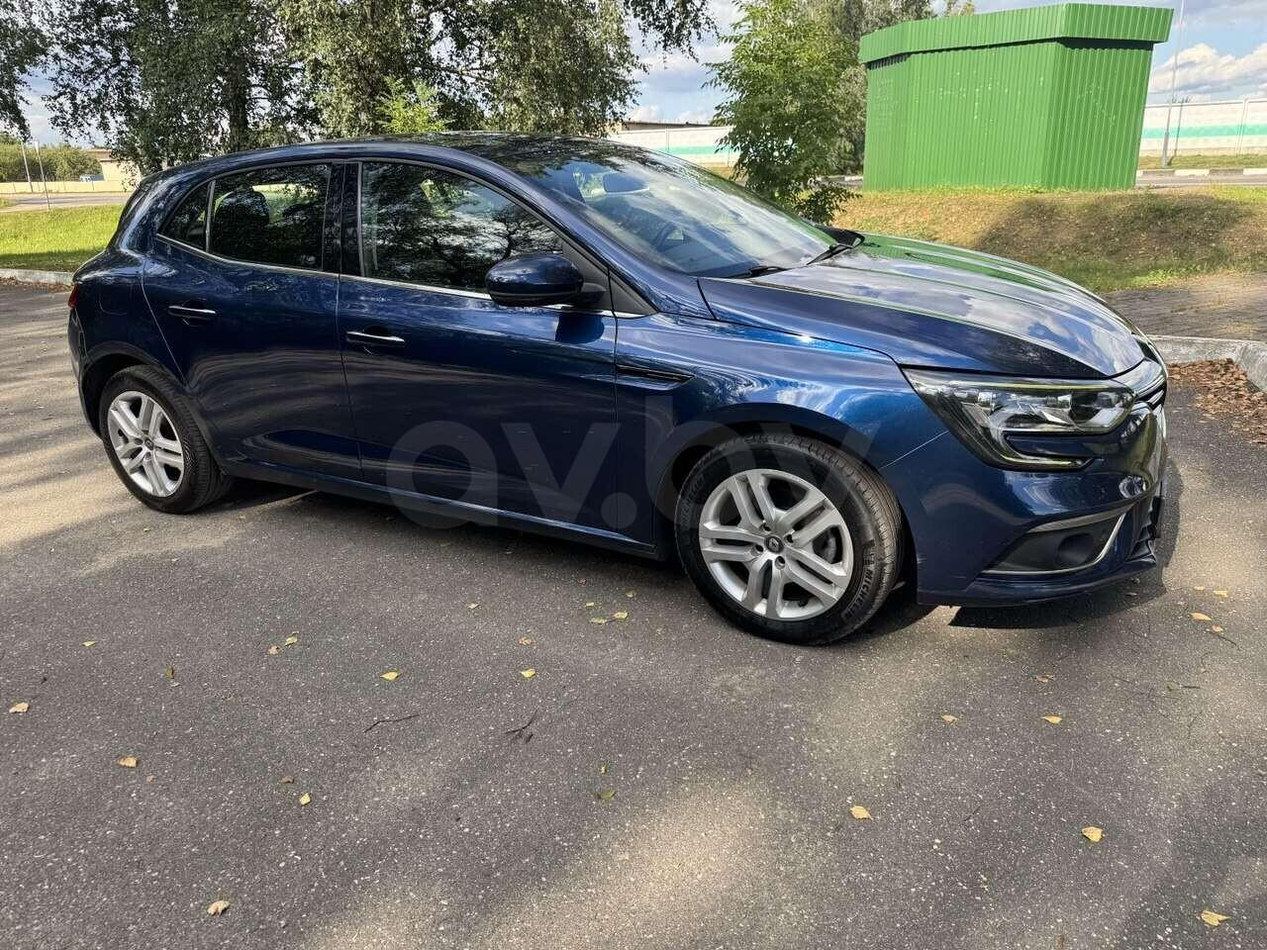Megane_2016-2020: (62, 129, 1182, 635)
